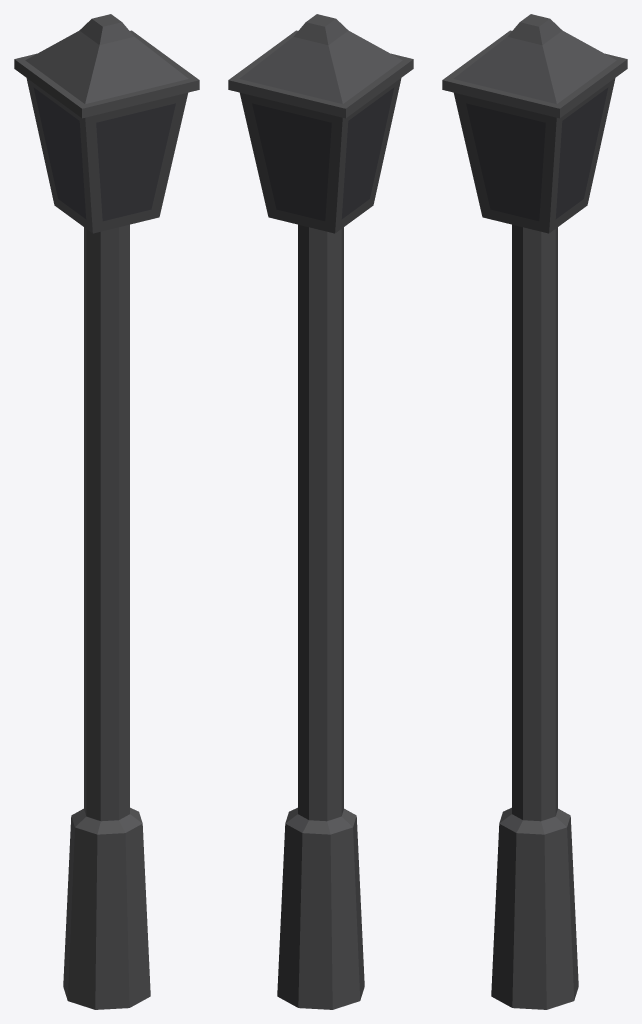
The model's file is SM_Street_Light_2.fbx.
3 views of the same model, side by side, from view 1: azimuth 30°, elevation 25°; view 2: azimuth 150°, elevation 25°; view 3: azimuth 330°, elevation 25° (orthographic).
Parts seen in each view (by area): view 1: SM_Street_Light_2_LOD0; view 2: SM_Street_Light_2_LOD0; view 3: SM_Street_Light_2_LOD0.
Part boxes in pixels (x1=…): SM_Street_Light_2_LOD0: x1=14, y1=14, x2=199, y2=1009; SM_Street_Light_2_LOD0: x1=228, y1=14, x2=413, y2=1009; SM_Street_Light_2_LOD0: x1=442, y1=14, x2=627, y2=1009.
Bounding box in the file's own units: 68.34 × 68.34 × 540.
1 material, 1 textured.
